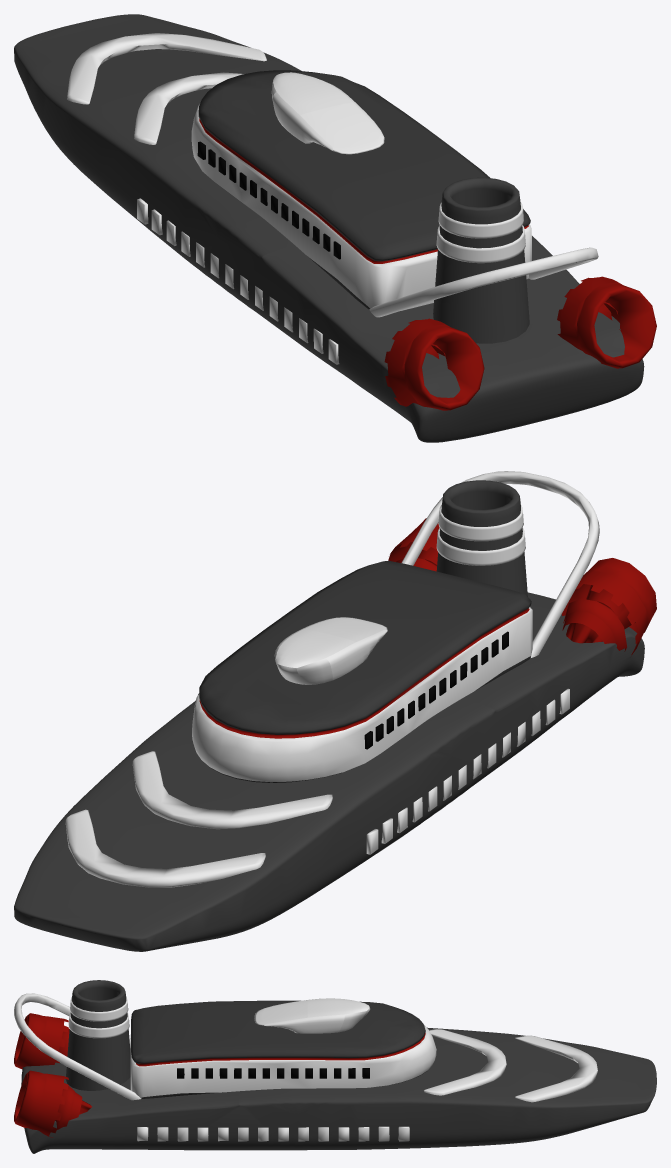
File: Boat.fbx
The picture shows the model from 3 angles, top to bottom: view 1: azimuth 30°, elevation 25°; view 2: azimuth 150°, elevation 25°; view 3: azimuth 270°, elevation 25°; orthographic projection. The views are drawn at different scales.
Visible parts, largest first — view 1: Cube.019; view 2: Cube.019; view 3: Cube.019.
Boxes of the visible parts, x1,y1,x2,y2 form: Cube.019: (14,14,656,442); Cube.019: (14,471,656,951); Cube.019: (14,980,656,1153).
Bounding box in the file's own units: 52.13 × 40.15 × 170.
